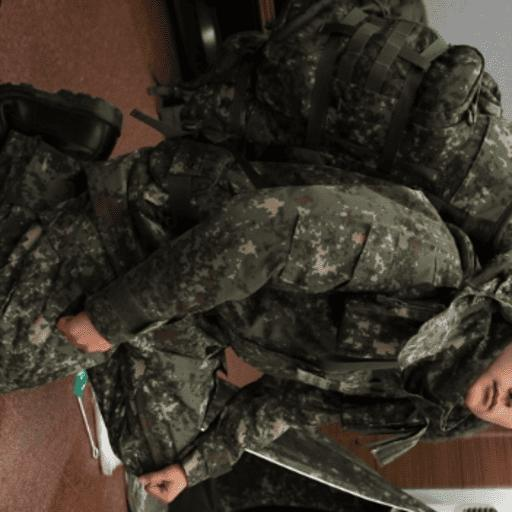korea army: (11, 124, 512, 499), (177, 10, 512, 197)
